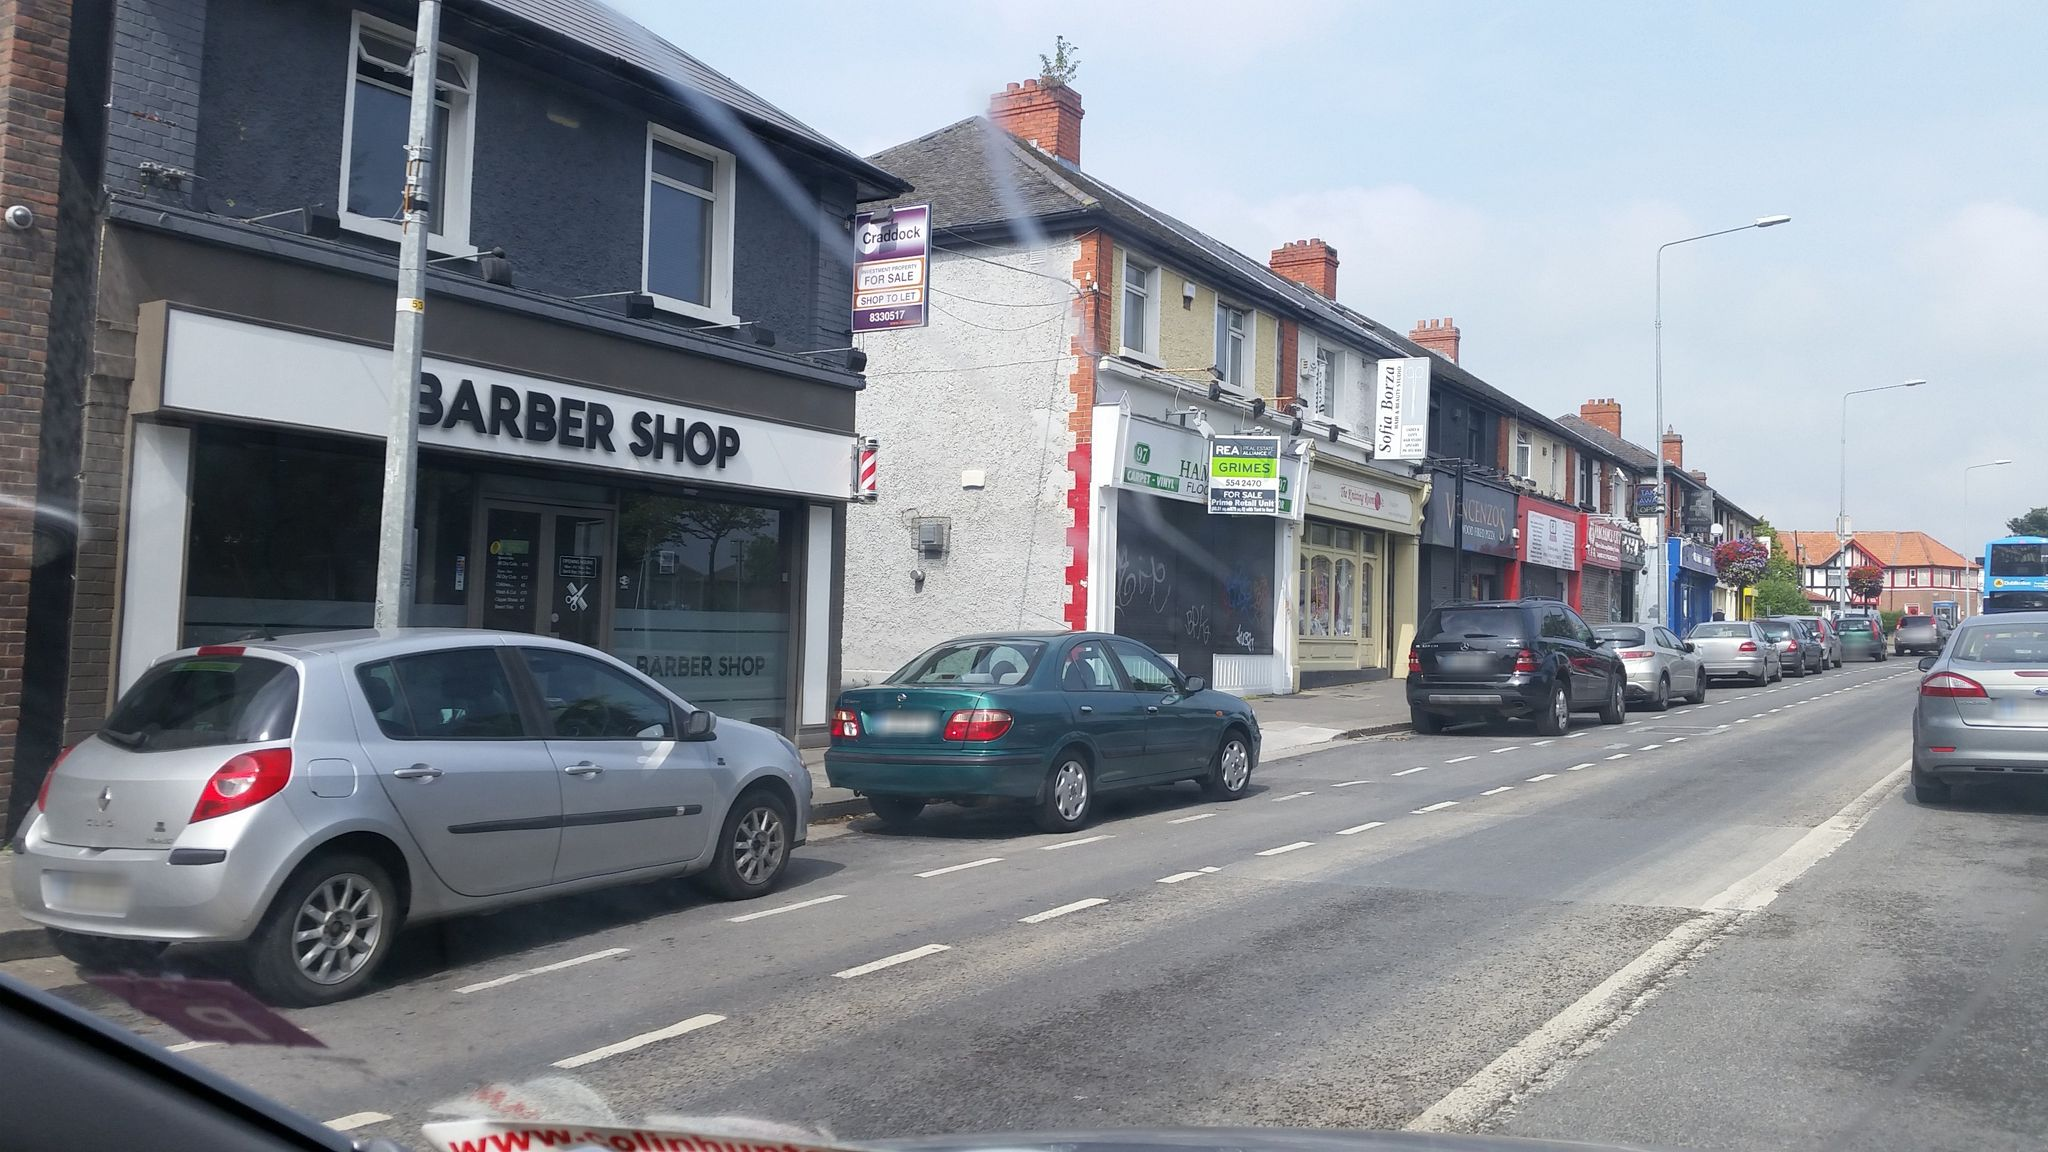property sign: (844, 191, 948, 340), (1194, 421, 1295, 520)
